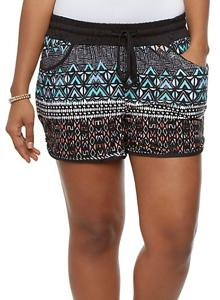C_shorts: (29, 10, 209, 176)
